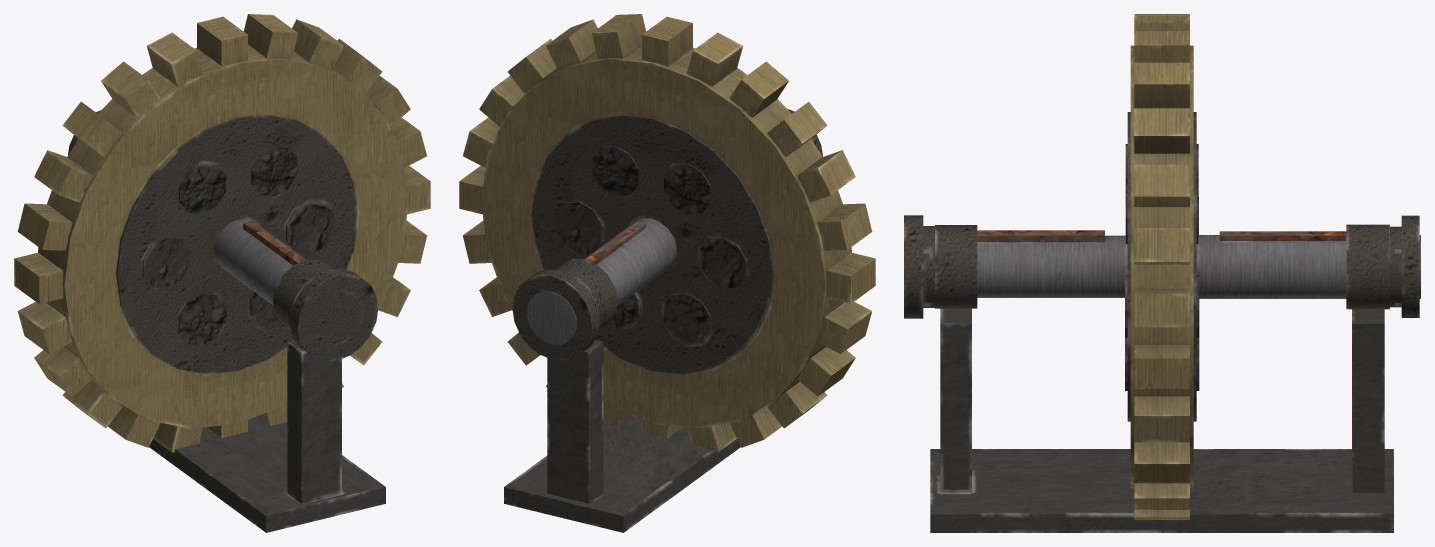
The model's file is feCogwheel_HD.fbx.
3 views of the same model, side by side, from view 1: azimuth 30°, elevation 25°; view 2: azimuth 150°, elevation 25°; view 3: azimuth 270°, elevation 25° (orthographic). The views are drawn at different scales.
Visible parts, largest first — view 1: FeSpin_Cog, feCogwheel_Base; view 2: FeSpin_Cog, feCogwheel_Base; view 3: FeSpin_Cog, feCogwheel_Base.
Boxes of the visible parts, x1,y1,x2,y2 form: FeSpin_Cog: (14, 14, 430, 452); feCogwheel_Base: (149, 259, 385, 532); FeSpin_Cog: (459, 14, 875, 452); feCogwheel_Base: (504, 259, 740, 532); FeSpin_Cog: (904, 14, 1420, 519); feCogwheel_Base: (930, 224, 1393, 532).
Size of the model in its own units: 0.98 by 0.9918 by 1.
Materials: 1 (1 with a texture image).
